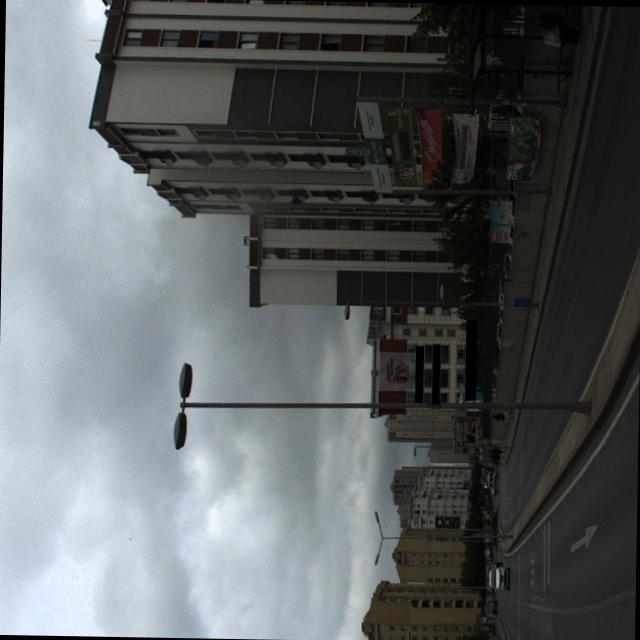SignStore: (465, 318, 477, 399), (431, 343, 440, 403), (415, 344, 424, 402)
